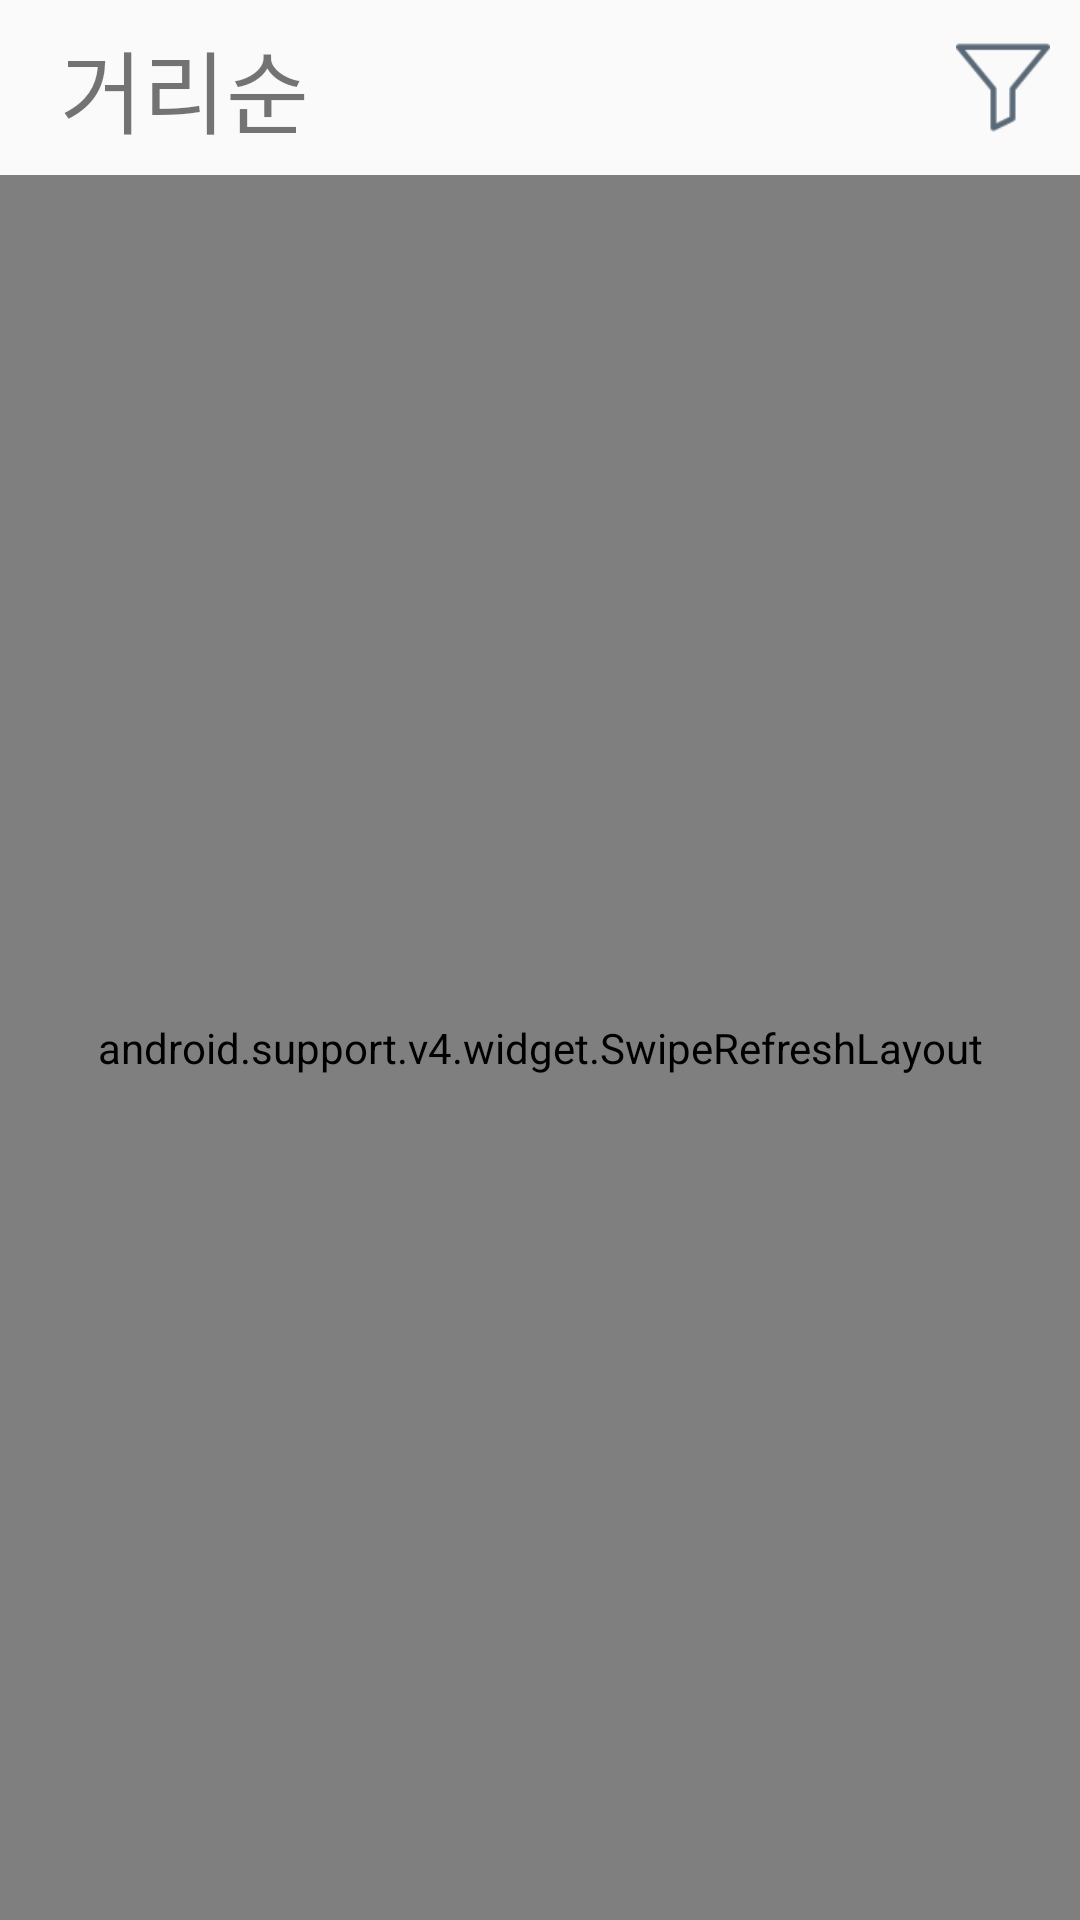

Named icons in this screenshot (1080 × 1920) and their bounding boxes, (left=x1, top=y1, right=x2, bottom=y2):
filter: (left=956, top=43, right=1050, bottom=132)
